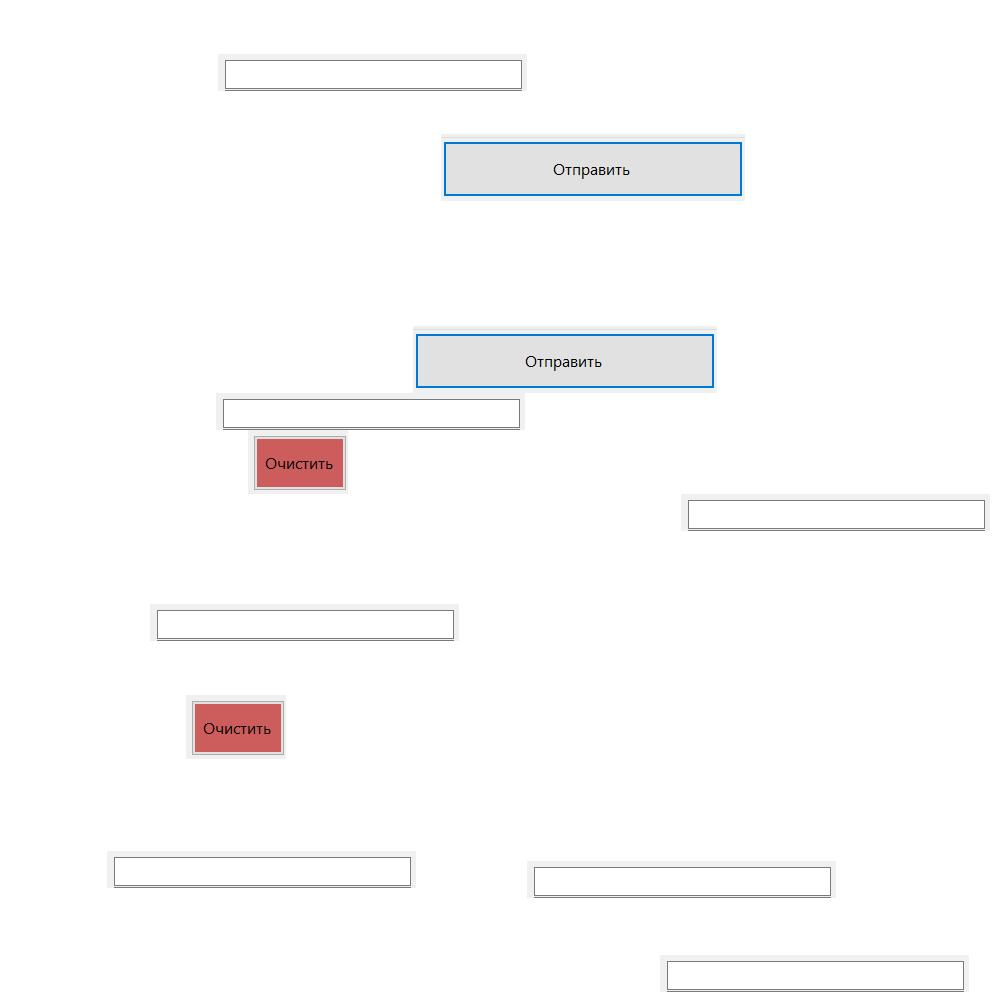Button: (441, 134, 745, 201), (413, 326, 717, 393), (248, 430, 348, 494), (186, 695, 286, 759)
EditText-: (150, 604, 459, 641), (681, 494, 990, 531), (216, 393, 525, 430), (218, 54, 527, 91), (527, 861, 836, 898), (660, 955, 969, 992), (107, 851, 416, 888)
